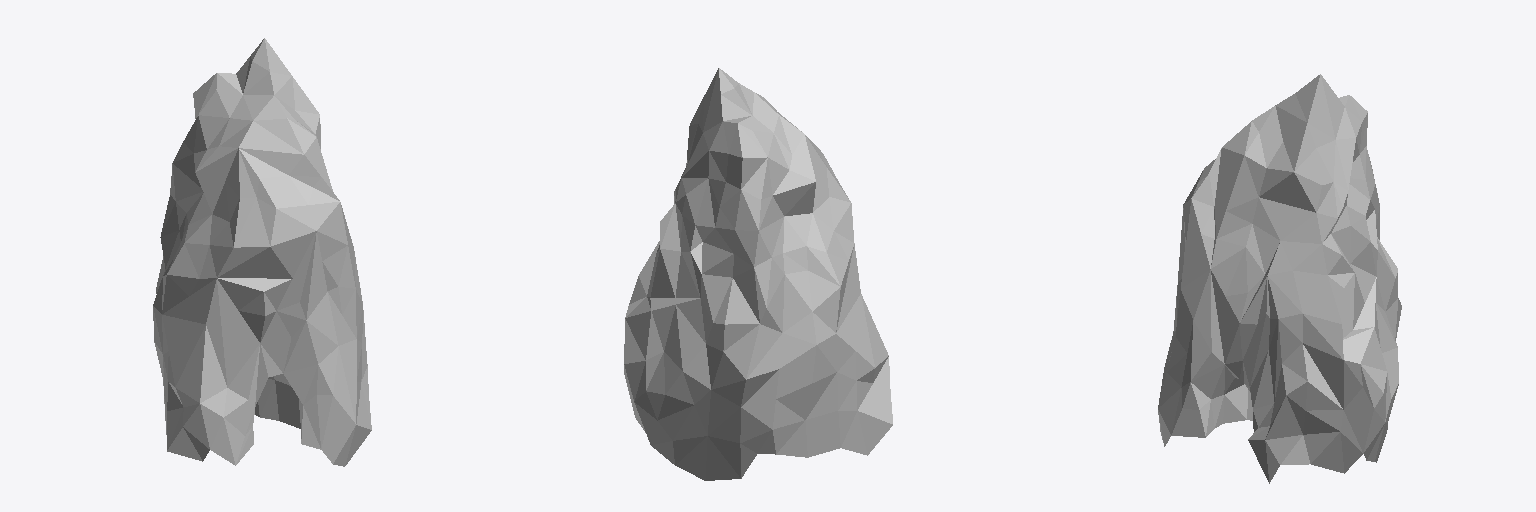
The model's file is MOUNTAIN.obj.
3 renders of one model, left to right at view 1: azimuth 30°, elevation 25°; view 2: azimuth 150°, elevation 25°; view 3: azimuth 270°, elevation 25°, orthographic.
Parts seen in each view (by area): view 1: Mountain; view 2: Mountain; view 3: Mountain.
Part boxes in pixels (x1,y1,x2,y2): Mountain: (153, 38, 371, 466); Mountain: (624, 68, 892, 480); Mountain: (1158, 74, 1401, 483).
Size of the model in its own units: 99.9 by 175 by 98.54.